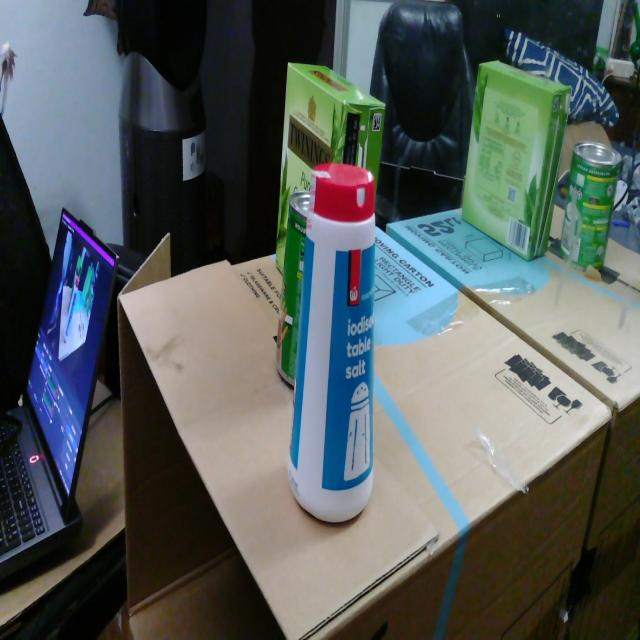nestle_milo_tin: (276, 192, 310, 386)
twinings_greentea_box: (276, 63, 386, 274)
woolworths_salt_bottle: (288, 164, 375, 523)
